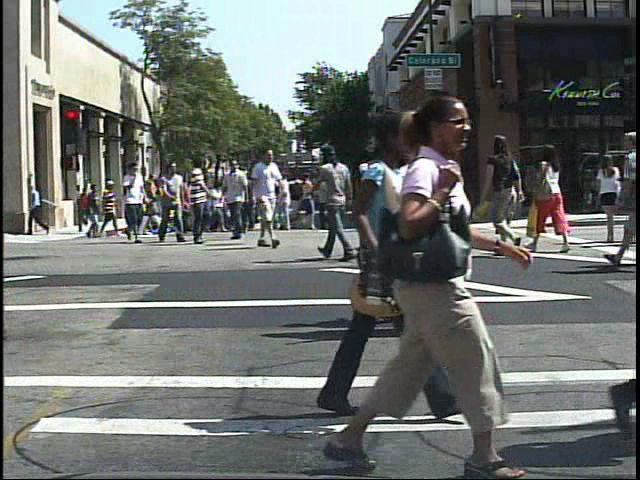person: (313, 87, 521, 480), (359, 135, 470, 340), (404, 127, 460, 338), (310, 134, 363, 265), (345, 145, 395, 263), (530, 138, 572, 257), (488, 134, 529, 243), (245, 144, 283, 251), (176, 154, 215, 247), (155, 158, 189, 247), (118, 158, 149, 246), (595, 149, 621, 243), (97, 177, 121, 241), (77, 182, 97, 233)
